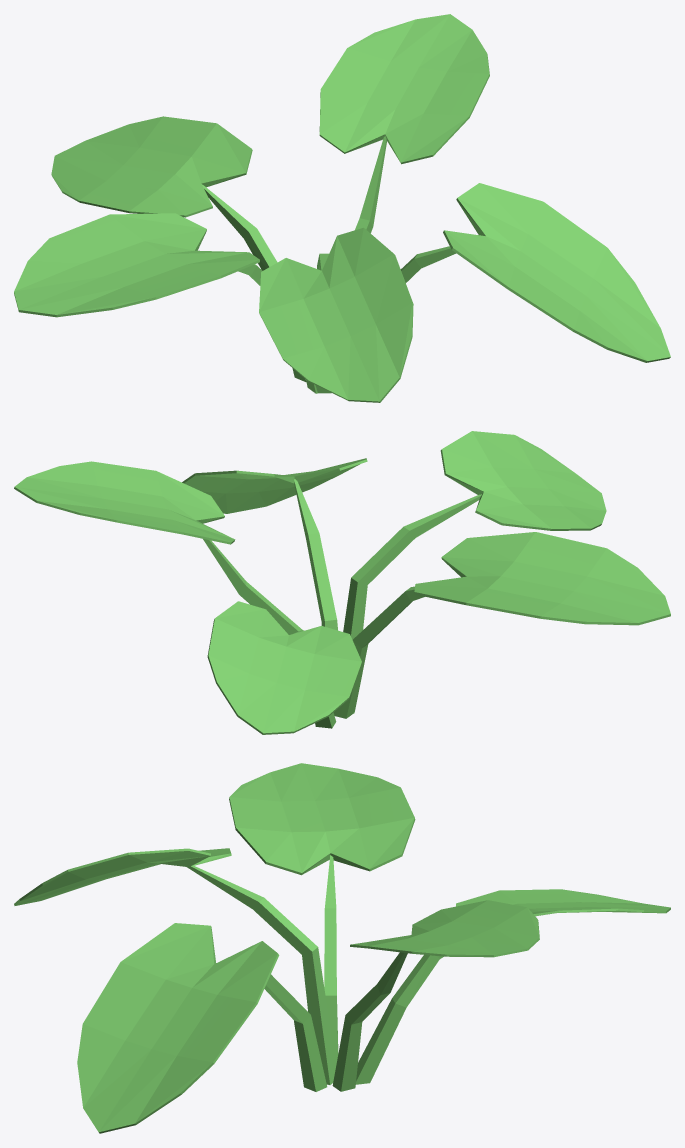
Rendered from tropical_plant_19.glb.
3 views of the same model, one above another, from view 1: azimuth 30°, elevation 25°; view 2: azimuth 150°, elevation 25°; view 3: azimuth 270°, elevation 25° (orthographic).
Visible parts, largest first — view 1: Tropical_plant_019; view 2: Tropical_plant_019; view 3: Tropical_plant_019.
Boxes of the visible parts, left/top/right/bottom form: Tropical_plant_019: left=14, top=14, right=670, bottom=402; Tropical_plant_019: left=14, top=431, right=670, bottom=734; Tropical_plant_019: left=14, top=763, right=670, bottom=1133.
Bounding box in the file's own units: 1.48 × 0.6243 × 1.53.
1 material, 1 textured.
